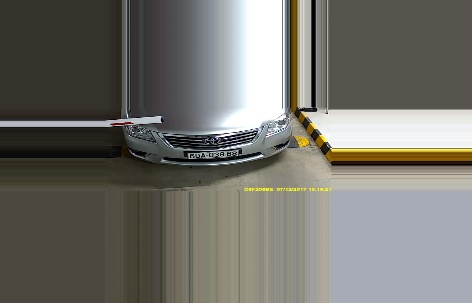plate: (187, 146, 240, 158)
